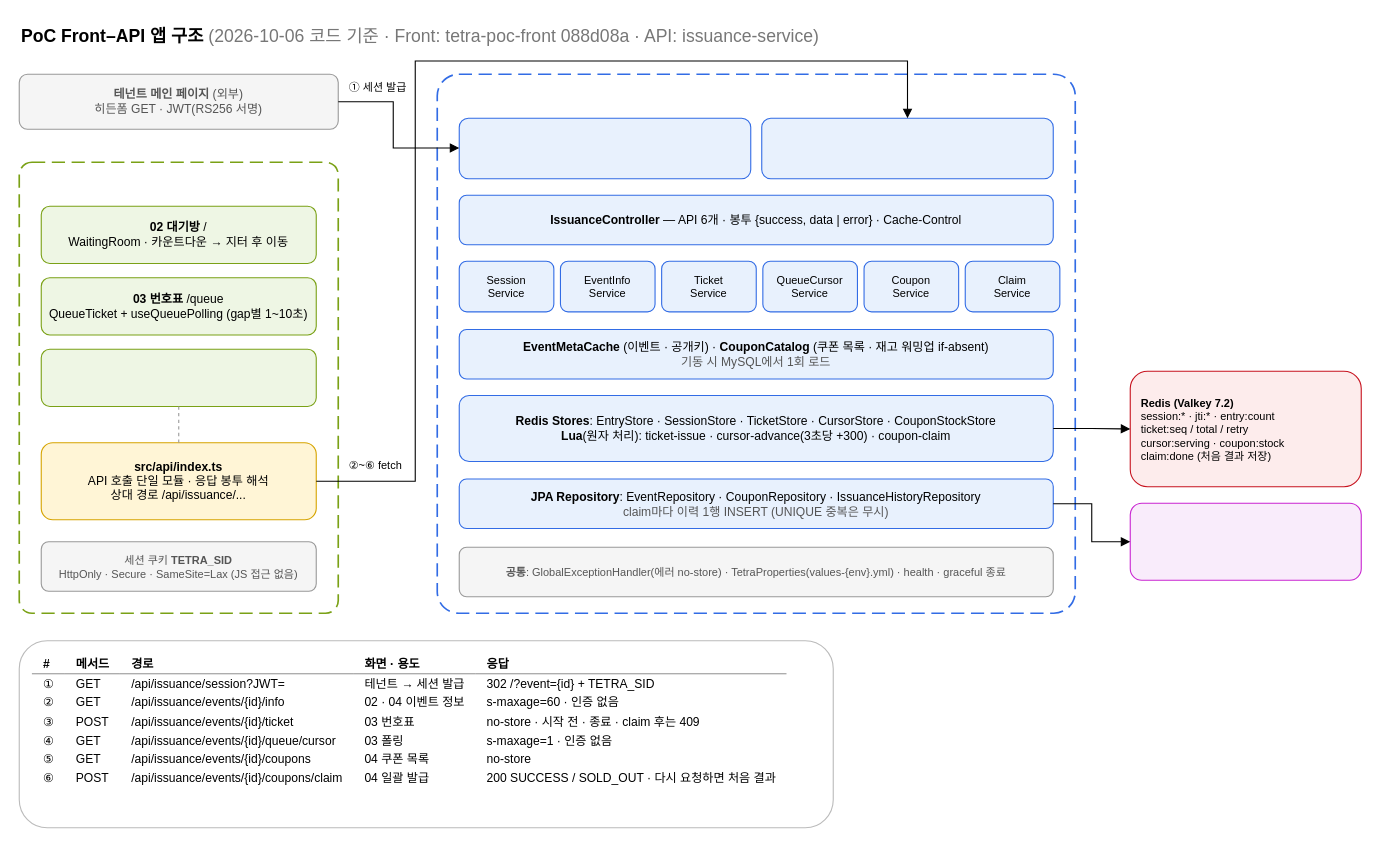
Image size: 1382x847. Some labels were removed from this diagram. The box of each missing label's shape, as (x1, y1, x2, y2) in pixels:
04 쿠폰 발급 /issue CouponIssuance + 05 성공 · 06 품절 모달: (40, 348, 316, 406)
Front SPA — React 18 + Vite (BrowserRouter): (18, 161, 339, 614)
Issuance Service — Spring Boot 4.1 · Java 21: (436, 73, 1076, 614)
JwtAuthFilter /session RS256 · 이벤트별 공개키 · jti 1회용: (458, 117, 751, 179)
MySQL 8 event · coupon · issuance_history: (1129, 502, 1361, 580)
SessionAuthFilter /events/* TETRA_SID → 세션 (cursor · info는 통과): (761, 117, 1053, 179)
